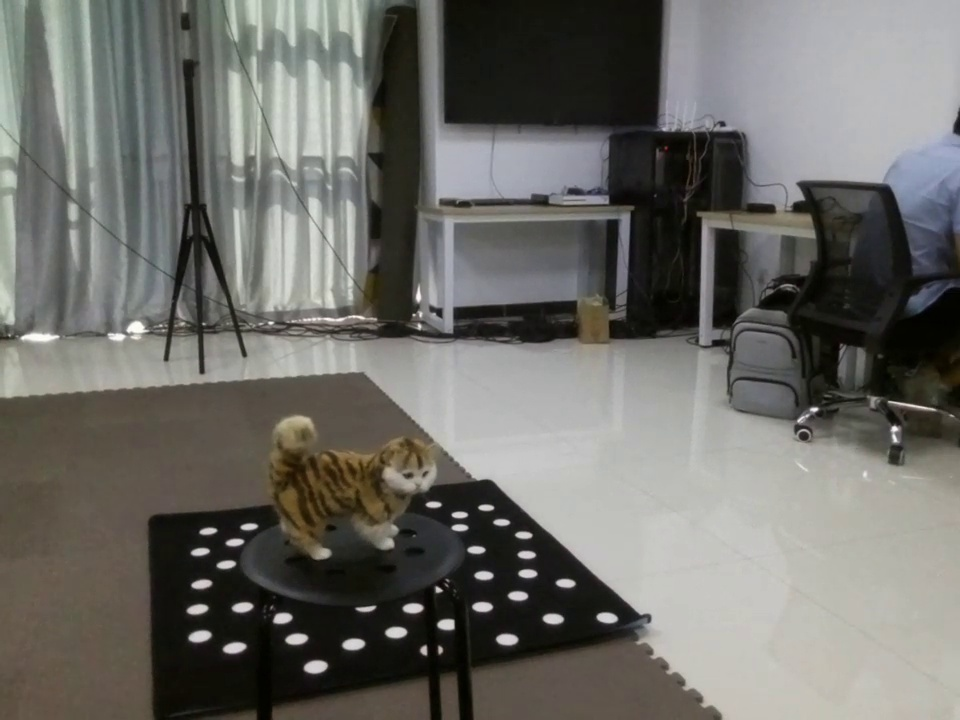cat: (255, 411, 447, 561)
